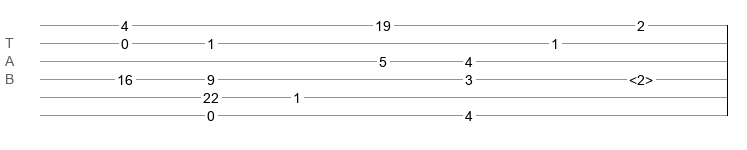0: (121, 36, 129, 46), (207, 108, 215, 118)
1: (207, 36, 215, 46), (293, 90, 301, 100), (551, 36, 559, 46)
16: (117, 72, 133, 82)
19: (375, 18, 391, 28)
2: (637, 18, 645, 28)
22: (203, 90, 219, 100)
3: (465, 72, 473, 82)
4: (121, 18, 129, 28), (465, 54, 473, 64), (465, 108, 473, 118)
5: (379, 54, 387, 64)
9: (207, 72, 215, 82)
harmonic: (629, 72, 653, 82)
